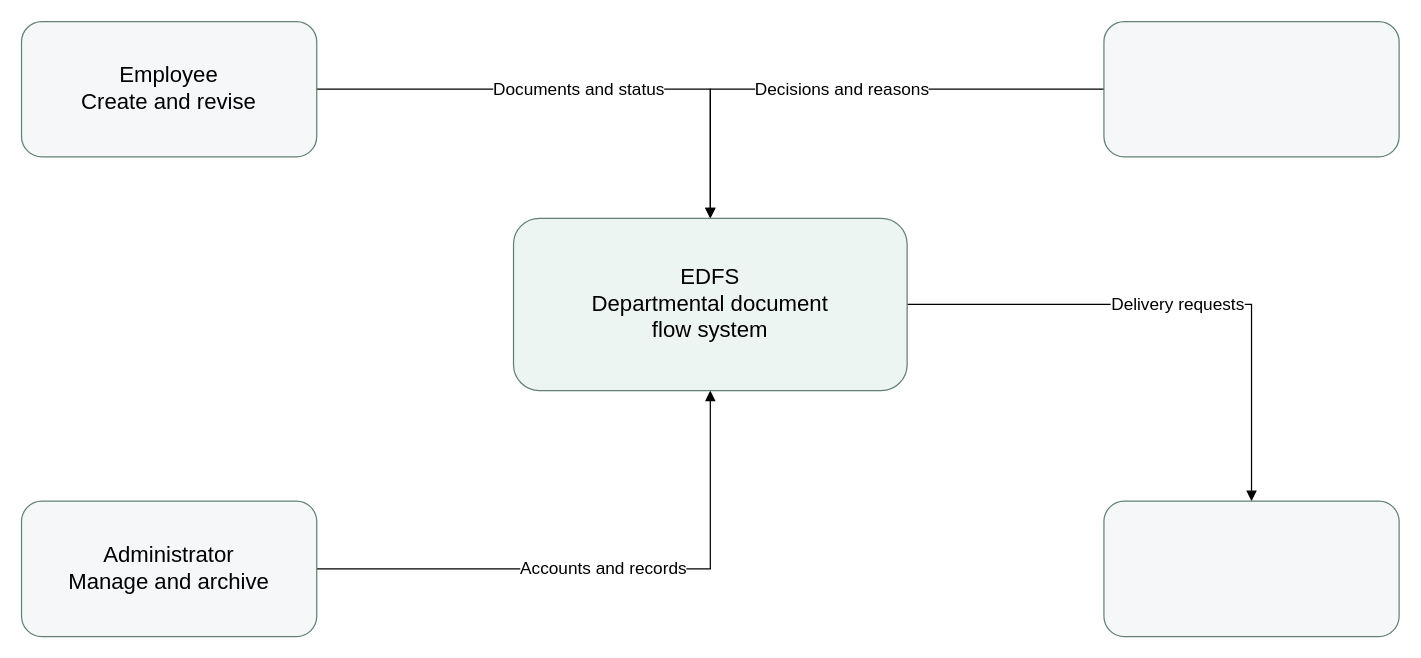
Some shapes in this 1421 by 658 pixel diagram are drawn without their labels. Each missing label, with the centre of its shape:
Mail service Planned external system: the point at 1251,568
Reviewer Review assigned versions: the point at 1251,88
